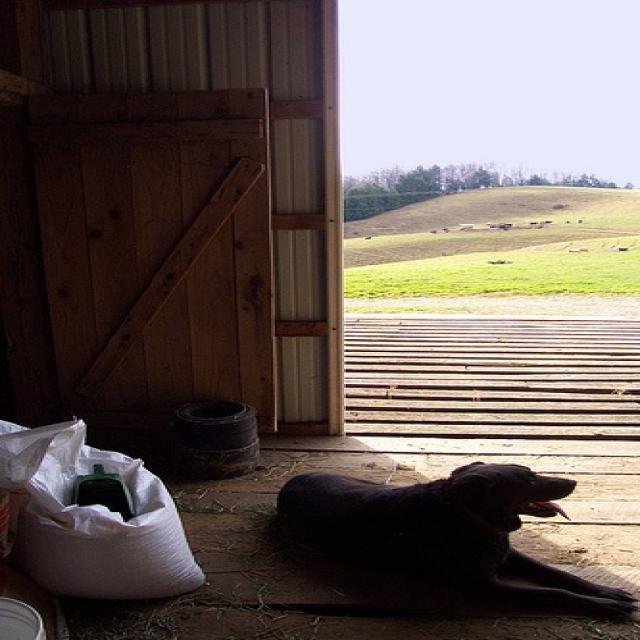dog: (271, 460, 638, 622)
